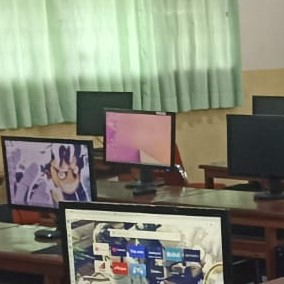monitor: (58, 201, 233, 282), (1, 135, 98, 214), (103, 108, 176, 172), (225, 113, 283, 181), (75, 91, 133, 137), (251, 95, 284, 115)
